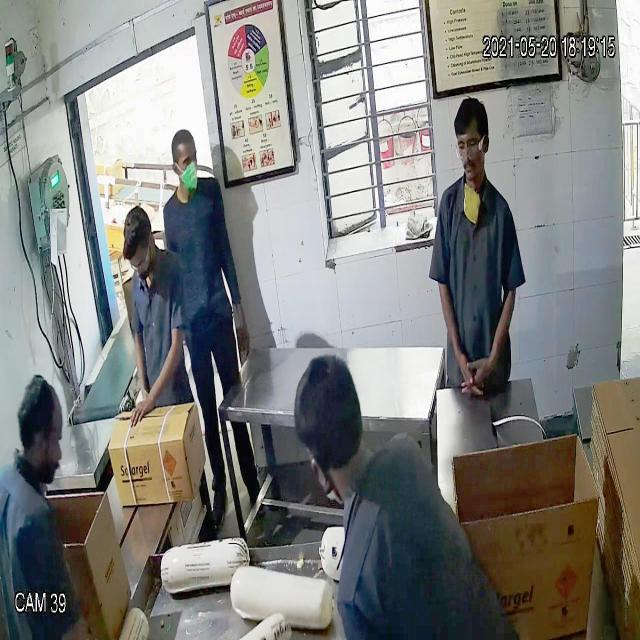glasses: (452, 138, 490, 159)
no-glass: (169, 152, 201, 172)
